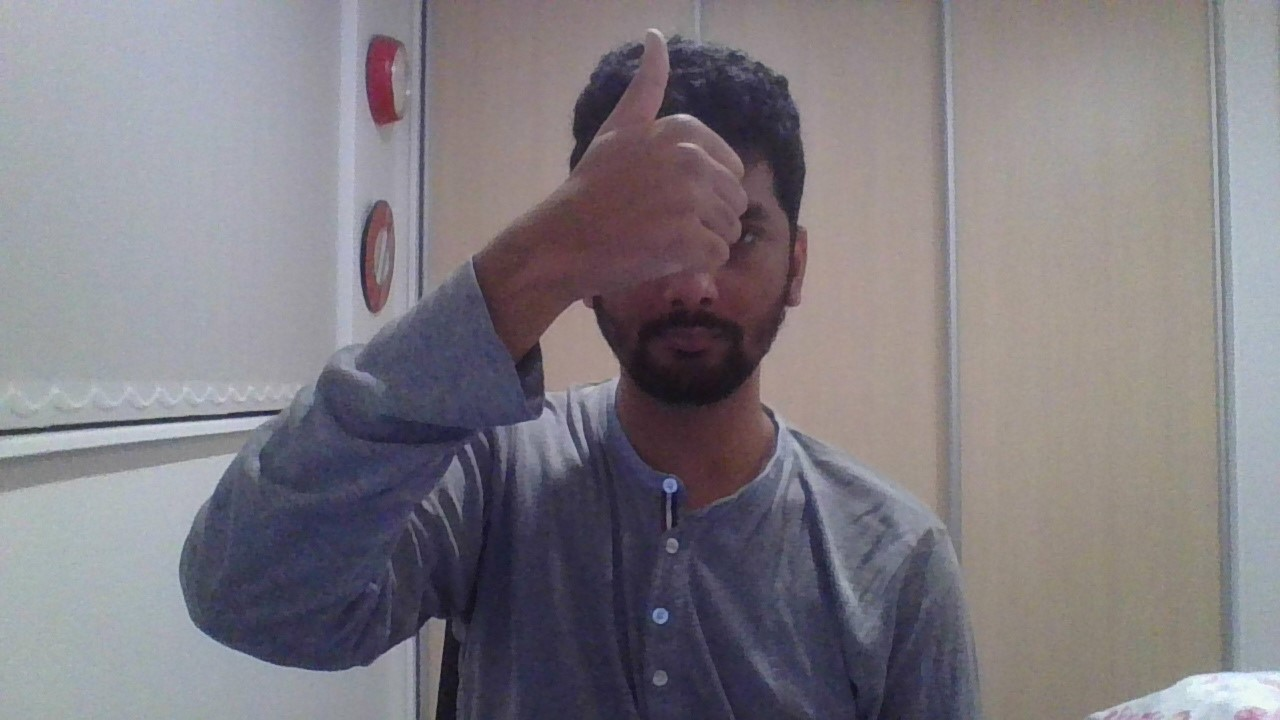good: (558, 28, 747, 287)
